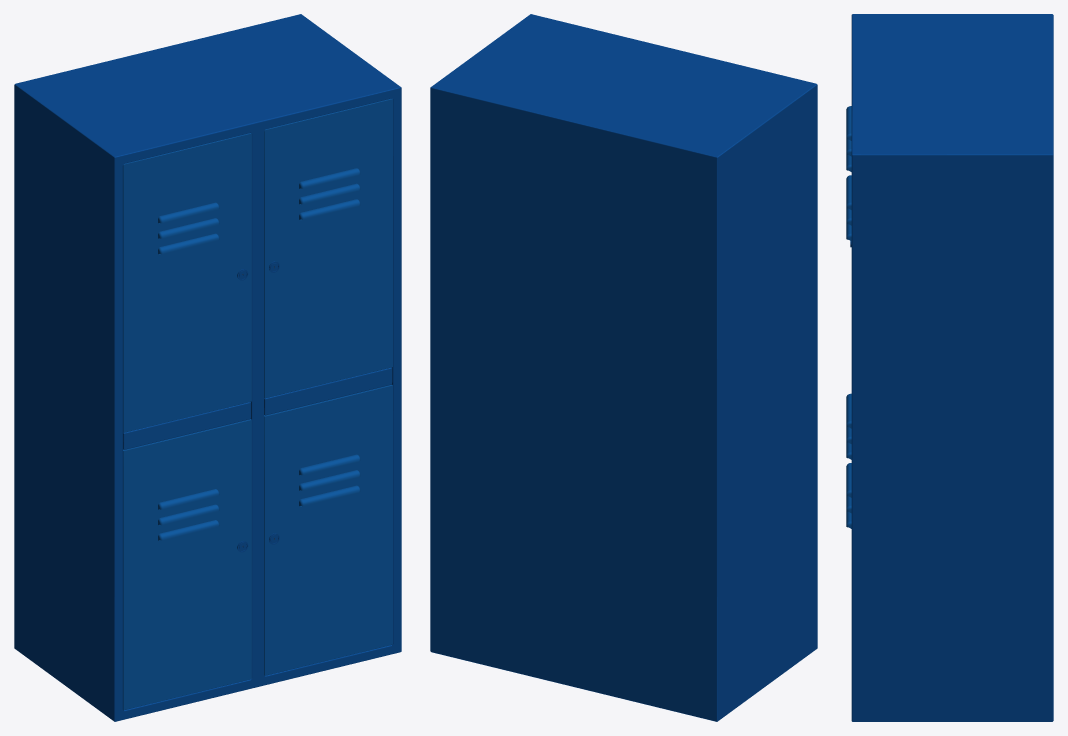
The model's file is SM_Locker_Open_V3_Blue.fbx.
3 renders of one model, left to right at view 1: azimuth 30°, elevation 25°; view 2: azimuth 150°, elevation 25°; view 3: azimuth 270°, elevation 25°, orthographic.
Visible parts, largest first — view 1: SM_Locker_Open_V3_Blue, SM_Locker_DoorTR_V3_Blue, SM_Locker_DoorTL_V3_Blue, SM_Locker_DoorBL_V3_Blue, SM_Locker_DoorBR_V3_Blue; view 2: SM_Locker_Open_V3_Blue; view 3: SM_Locker_Open_V3_Blue, SM_Locker_DoorTR_V3_Blue, SM_Locker_DoorBL_V3_Blue, SM_Locker_DoorBR_V3_Blue, SM_Locker_DoorTL_V3_Blue.
Boxes of the visible parts, x1,y1,x2,y2 form: SM_Locker_Open_V3_Blue: [14, 14, 401, 721]; SM_Locker_DoorTR_V3_Blue: [264, 98, 392, 398]; SM_Locker_DoorTL_V3_Blue: [123, 133, 251, 432]; SM_Locker_DoorBL_V3_Blue: [123, 419, 251, 710]; SM_Locker_DoorBR_V3_Blue: [264, 384, 392, 675]; SM_Locker_Open_V3_Blue: [430, 14, 817, 721]; SM_Locker_Open_V3_Blue: [851, 14, 1053, 721]; SM_Locker_DoorTR_V3_Blue: [846, 175, 851, 247]; SM_Locker_DoorBL_V3_Blue: [846, 393, 851, 459]; SM_Locker_DoorBR_V3_Blue: [846, 463, 851, 528]; SM_Locker_DoorTL_V3_Blue: [846, 106, 851, 171].
Size of the model in its own units: 115 by 215 by 71.27.
